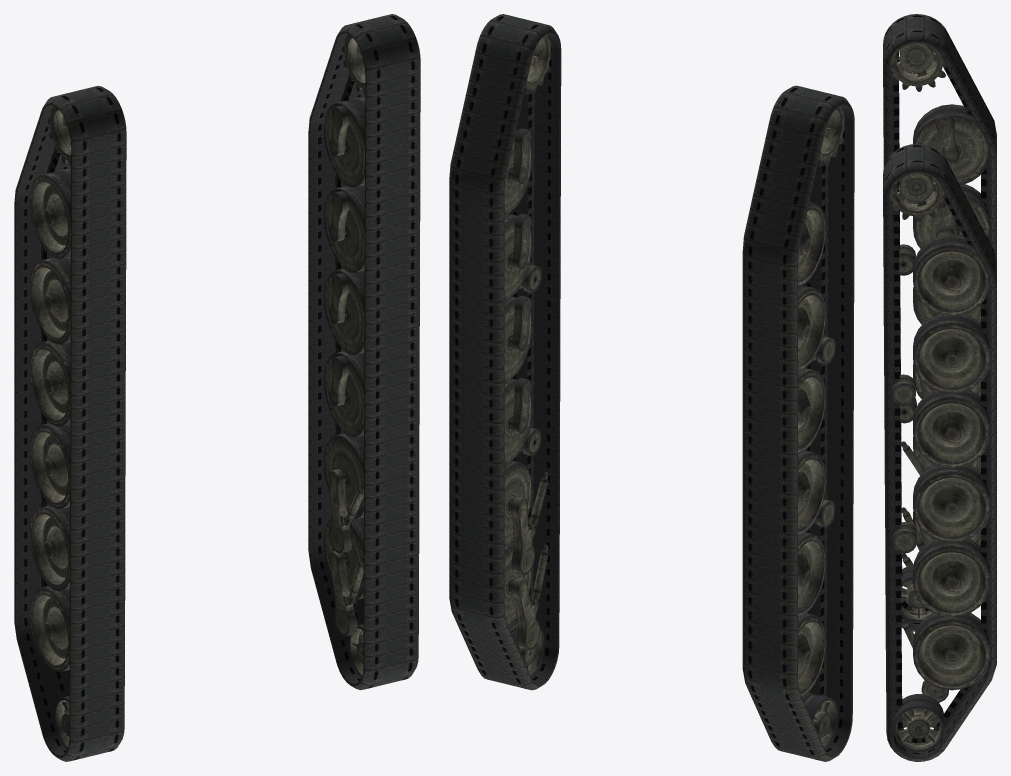
Rendered from Chassis.glb.
3 renders of one model, left to right at view 1: azimuth 30°, elevation 25°; view 2: azimuth 150°, elevation 25°; view 3: azimuth 270°, elevation 25°, orthographic. The views are drawn at different scales.
Visible parts, largest first — view 1: set_0_group_0, set_1_group_0, set_3_group_0, set_2_group_0; view 2: set_0_group_0, set_1_group_0, set_3_group_0, set_2_group_0; view 3: set_3_group_0, set_1_group_0, set_2_group_0, set_0_group_0.
Part boxes in pixels (x1=…): set_0_group_0: x1=14, y1=86, x2=126, y2=761; set_1_group_0: x1=308, y1=14, x2=420, y2=690; set_3_group_0: x1=324, y1=34, x2=365, y2=677; set_2_group_0: x1=30, y1=106, x2=71, y2=749; set_0_group_0: x1=742, y1=85, x2=854, y2=761; set_1_group_0: x1=449, y1=14, x2=561, y2=690; set_3_group_0: x1=504, y1=34, x2=550, y2=677; set_2_group_0: x1=798, y1=106, x2=844, y2=749; set_3_group_0: x1=890, y1=172, x2=989, y2=751; set_1_group_0: x1=883, y1=144, x2=996, y2=761; set_2_group_0: x1=890, y1=42, x2=989, y2=621; set_0_group_0: x1=883, y1=14, x2=996, y2=631.
Bounding box in the file's own units: 3.24 × 5.88 × 1.01.
Materials: 4 (4 with a texture image).
